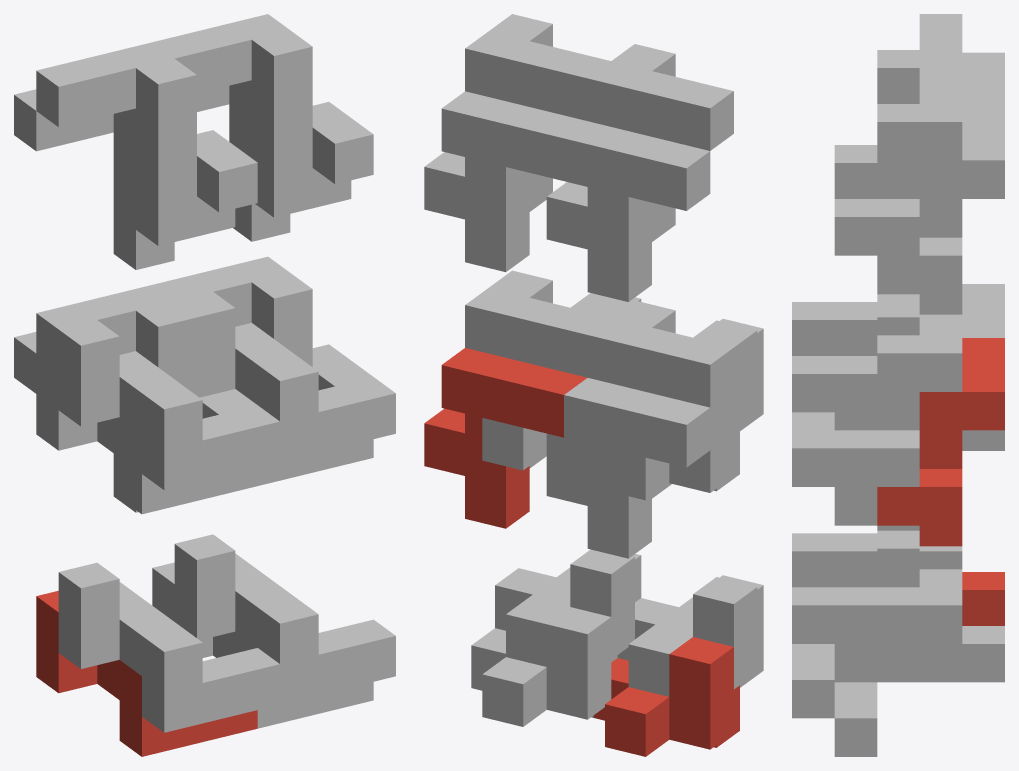
Rendered from tiling.obj.
3 views of the same model, side by side, from view 1: azimuth 30°, elevation 25°; view 2: azimuth 150°, elevation 25°; view 3: azimuth 270°, elevation 25° (orthographic). The views are drawn at different scales.
Visible parts, largest first — view 1: copy_2_domain_4, copy_2_domain_8, copy_1_domain_2, copy_1_domain_4, copy_1_domain_6, copy_1_domain_8, copy_2_domain_2, copy_2_domain_6, copy_2_domain_3, copy_1_domain_1, copy_1_domain_3, copy_2_domain_7 (+3 smaller); view 2: copy_2_domain_3, copy_2_domain_7, copy_2_domain_1, copy_2_domain_5, copy_1_domain_5, copy_1_domain_1, copy_2_domain_4, copy_2_domain_2, copy_1_domain_6, copy_1_domain_2, copy_2_domain_8, copy_2_domain_6 (+4 smaller); view 3: copy_1_domain_6, copy_2_domain_8, copy_2_domain_7, copy_2_domain_5, copy_2_domain_6, copy_1_domain_5, copy_1_domain_8, copy_2_domain_4, copy_1_domain_2, copy_1_domain_4, copy_1_domain_7, copy_2_domain_3 (+2 smaller).
Part boxes in pixels (left/top/right/bottom): copy_2_domain_4: left=36, top=42, right=257, bottom=245; copy_2_domain_8: left=152, top=14, right=373, bottom=217; copy_1_domain_2: left=58, top=562, right=279, bottom=732; copy_1_domain_4: left=58, top=320, right=279, bottom=490; copy_1_domain_6: left=174, top=534, right=395, bottom=704; copy_1_domain_8: left=175, top=292, right=395, bottom=461; copy_2_domain_2: left=36, top=285, right=257, bottom=418; copy_2_domain_6: left=152, top=256, right=372, bottom=390; copy_2_domain_3: left=14, top=89, right=235, bottom=269; copy_1_domain_1: left=36, top=590, right=257, bottom=756; copy_1_domain_3: left=36, top=354, right=257, bottom=514; copy_2_domain_7: left=197, top=80, right=351, bottom=241; copy_2_domain_3: left=546, top=121, right=710, bottom=301; copy_2_domain_7: left=424, top=91, right=587, bottom=272; copy_2_domain_1: left=546, top=378, right=710, bottom=558; copy_2_domain_5: left=424, top=348, right=587, bottom=528; copy_1_domain_5: left=471, top=607, right=617, bottom=726; copy_1_domain_1: left=594, top=637, right=739, bottom=756; copy_2_domain_4: left=587, top=44, right=733, bottom=241; copy_2_domain_2: left=587, top=300, right=733, bottom=498; copy_1_domain_6: left=495, top=549, right=641, bottom=666; copy_1_domain_2: left=617, top=575, right=763, bottom=696; copy_2_domain_8: left=465, top=14, right=610, bottom=211; copy_2_domain_6: left=465, top=270, right=610, bottom=468; copy_1_domain_6: left=792, top=530, right=962, bottom=718; copy_2_domain_8: left=834, top=68, right=962, bottom=255; copy_2_domain_7: left=877, top=106, right=1004, bottom=314; copy_2_domain_5: left=877, top=338, right=1004, bottom=546; copy_2_domain_6: left=834, top=314, right=962, bottom=486; copy_1_domain_5: left=834, top=569, right=1004, bottom=756; copy_1_domain_8: left=792, top=299, right=919, bottom=486; copy_2_domain_4: left=834, top=14, right=962, bottom=198; copy_1_domain_2: left=792, top=525, right=962, bottom=587; copy_1_domain_4: left=792, top=302, right=877, bottom=355; copy_1_domain_7: left=834, top=412, right=1004, bottom=525; copy_2_domain_3: left=962, top=52, right=1004, bottom=106.
Bounding box in the file's own units: 7 × 16 × 5.
